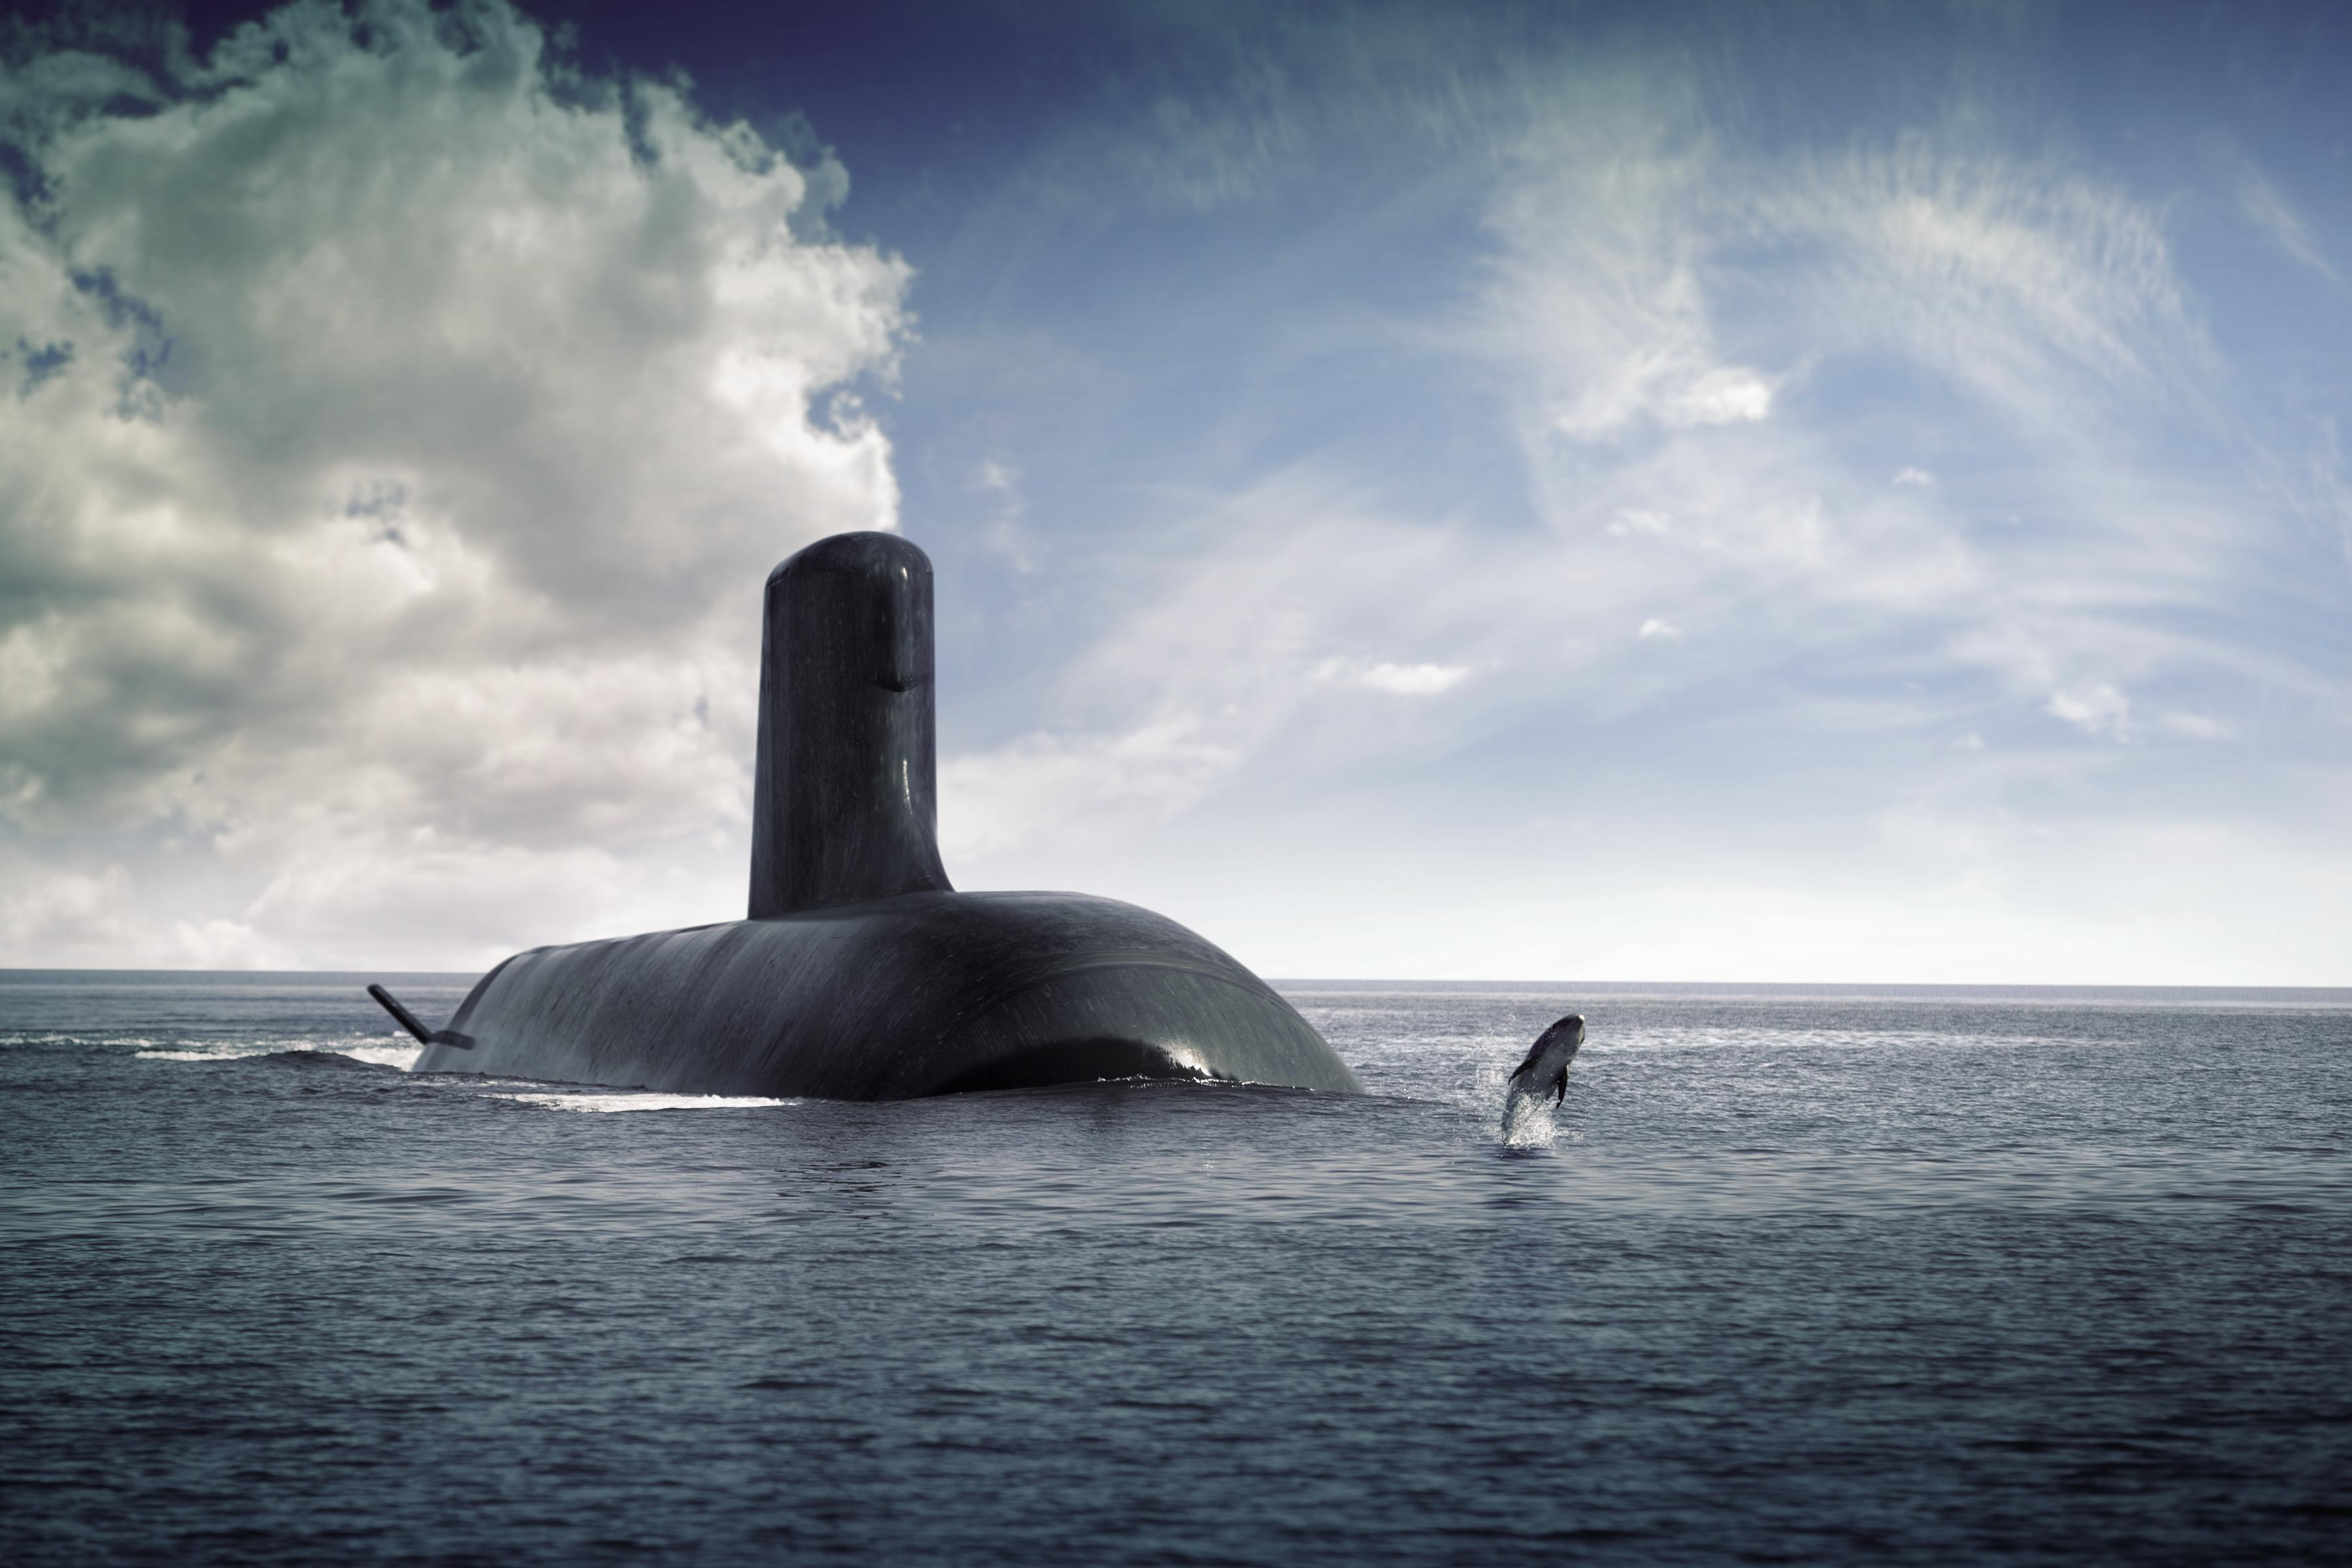Submarine: (0, 313, 1417, 1316)
